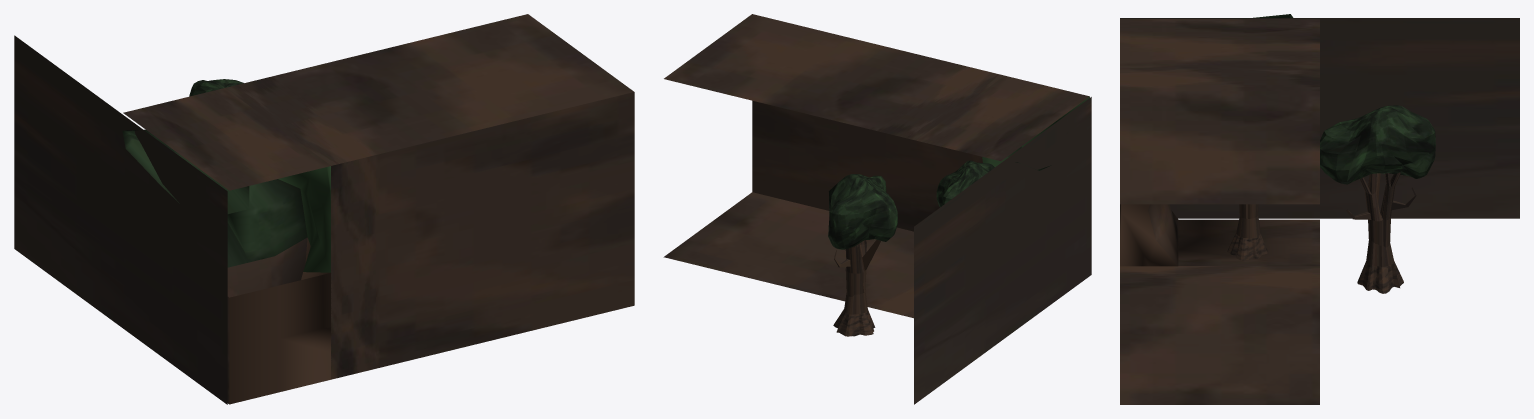
File: forest.glb
3 renders of one model, left to right at view 1: azimuth 30°, elevation 25°; view 2: azimuth 150°, elevation 25°; view 3: azimuth 270°, elevation 25°, orthographic. The views are drawn at different scales.
Parts seen in each view (by area): view 1: Cube.004, Cube.003, Cube, Cube.001; view 2: Cube.004, Cube.003, Cube, Sphere, Cylinder, Sphere.001; view 3: Cube.004, Cube.003, Cube, Sphere, Cylinder, Cylinder.001.
Part boxes in pixels (x1,y1,x2,y2): Cube.004: (225,14,634,379); Cube.003: (14,35,227,404); Cube: (123,88,331,404); Cube.001: (122,129,330,272); Cube.004: (663,14,1004,318); Cube.003: (914,97,1091,404); Cube: (916,75,1089,161); Sphere: (828,174,897,249); Cylinder: (833,240,880,336); Sphere.001: (936,160,994,207); Cube.004: (1120,65,1319,404); Cube.003: (1120,18,1519,218); Cube: (1120,19,1319,266); Sphere: (1320,105,1435,184); Cylinder: (1346,172,1416,293); Cylinder.001: (1227,204,1267,260).
Bounding box in the file's own units: 4.15 × 2 × 3.61.
8 materials, 8 textured.
